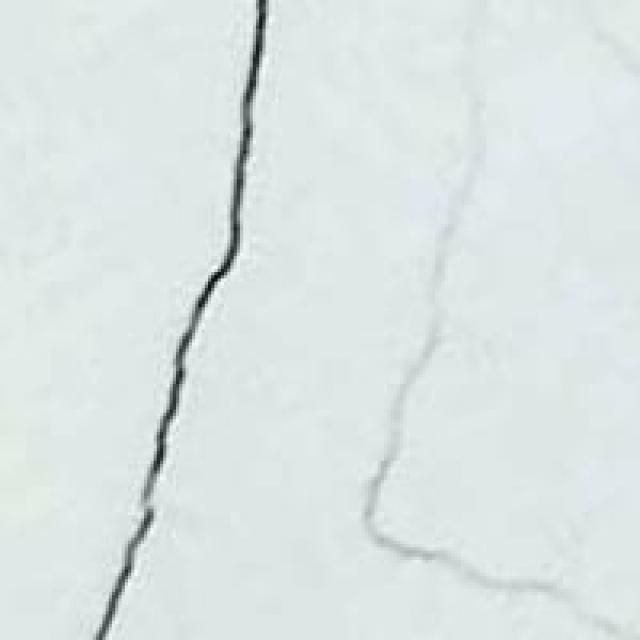crack: (102, 0, 326, 637)
